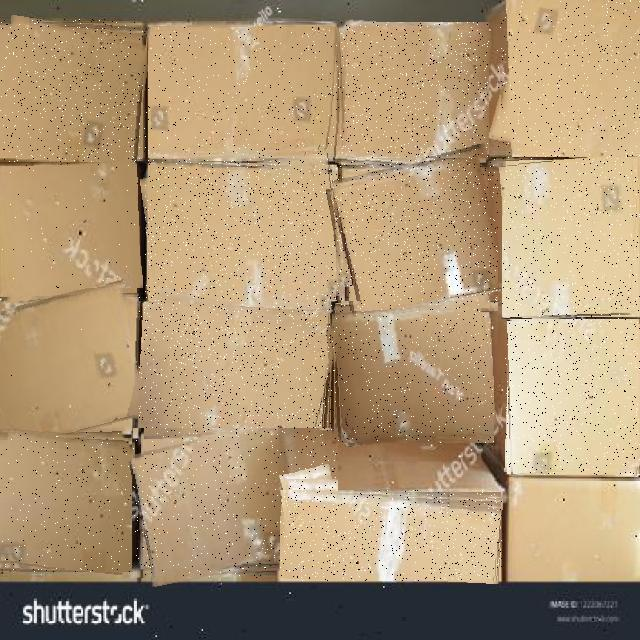BoxFace: (133, 428, 338, 578), (139, 294, 336, 448), (144, 159, 342, 306), (331, 158, 498, 313), (148, 27, 338, 158), (497, 0, 640, 164), (331, 300, 494, 443), (336, 22, 489, 172), (0, 288, 145, 445), (502, 157, 640, 319), (505, 319, 640, 475), (0, 19, 147, 162), (280, 490, 502, 581), (0, 162, 140, 300), (0, 432, 132, 572)
